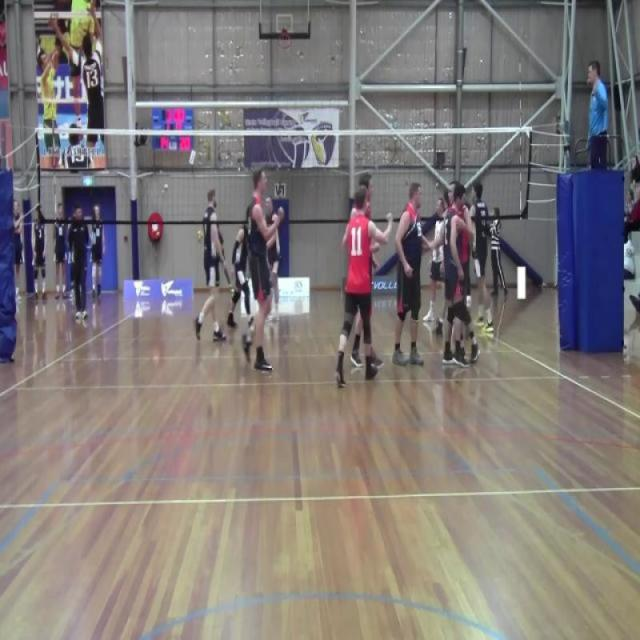volleyball: (196, 230, 205, 244)
